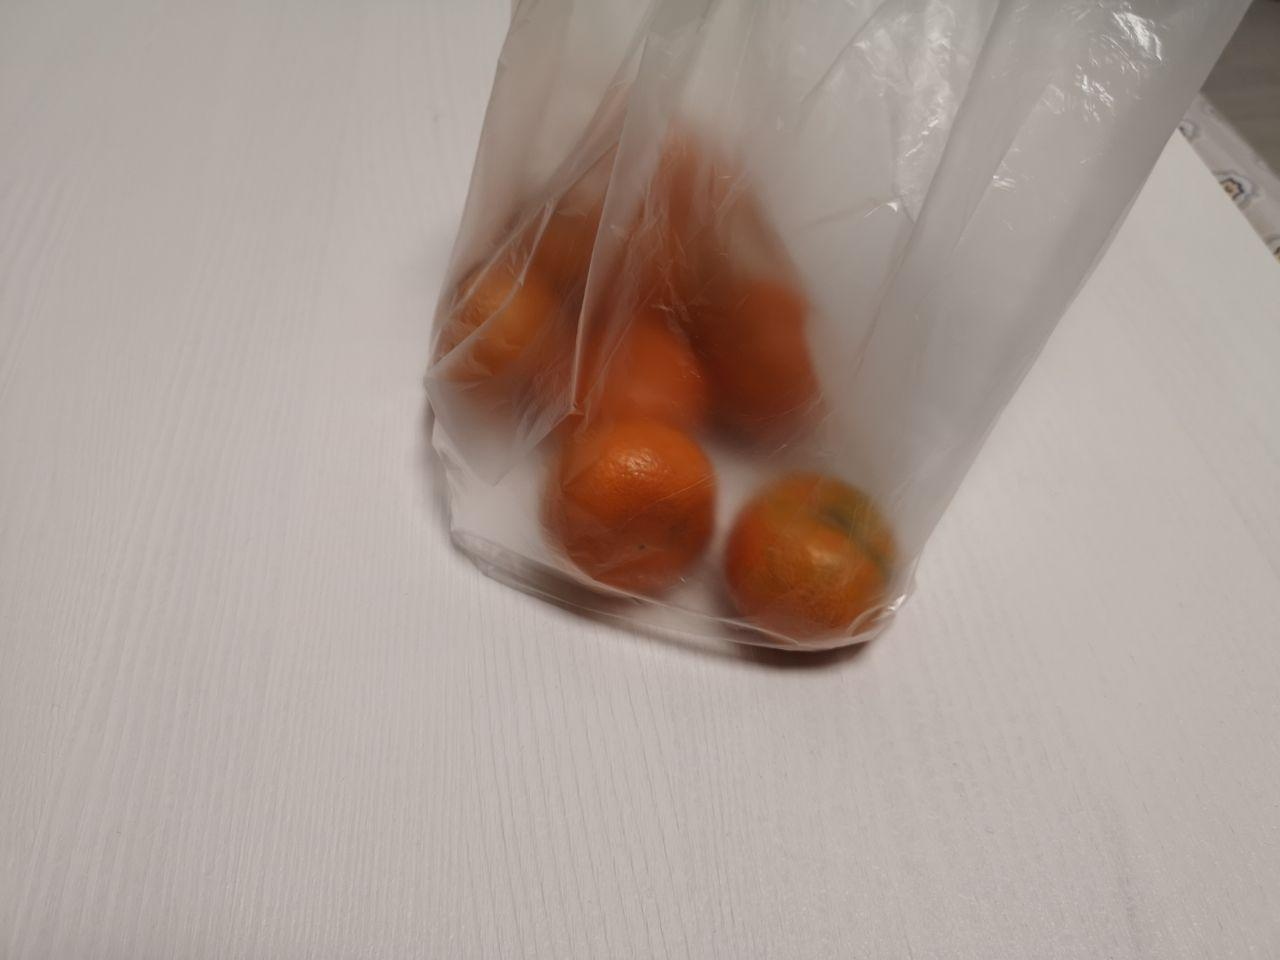clementin: (405, 104, 912, 666)
